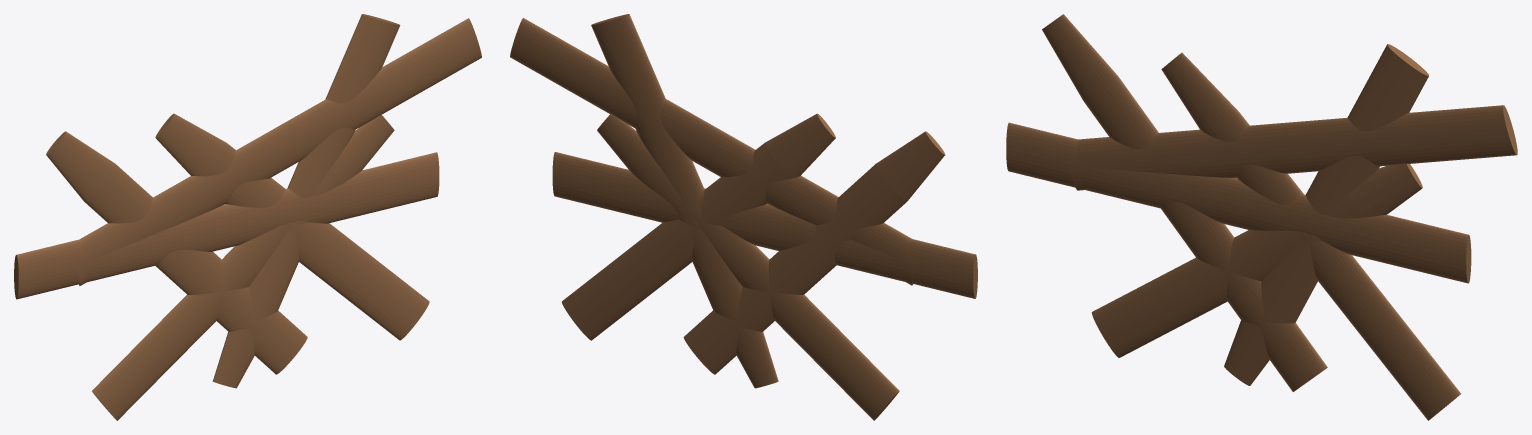
The model's file is broken fence.fbx.
3 renders of one model, left to right at view 1: azimuth 30°, elevation 25°; view 2: azimuth 150°, elevation 25°; view 3: azimuth 330°, elevation 25°, orthographic. The views are drawn at different scales.
Visible parts, largest first — view 1: Cylinder.005, Cylinder.004, Cylinder, Cylinder.003, Cylinder.002, Cylinder.001; view 2: Cylinder.005, Cylinder, Cylinder.004, Cylinder.003, Cylinder.002, Cylinder.001; view 3: Cylinder.005, Cylinder.004, Cylinder, Cylinder.003, Cylinder.002, Cylinder.001.
Boxes of the visible parts, box(x1,y1,x2,y2) form: Cylinder.005: box(75, 18, 481, 285); Cylinder.004: box(14, 152, 439, 299); Cylinder: box(155, 113, 429, 340); Cylinder.003: box(46, 131, 307, 374); Cylinder.002: box(92, 114, 394, 420); Cylinder.001: box(212, 14, 400, 388); Cylinder.005: box(510, 18, 916, 285); Cylinder: box(562, 113, 835, 340); Cylinder.004: box(552, 152, 977, 298); Cylinder.003: box(683, 131, 945, 374); Cylinder.002: box(597, 114, 899, 420); Cylinder.001: box(591, 14, 778, 388); Cylinder.005: box(1068, 105, 1517, 190); Cylinder.004: box(1006, 122, 1471, 283); Cylinder: box(1161, 52, 1460, 420); Cylinder.003: box(1042, 14, 1327, 391); Cylinder.002: box(1091, 163, 1422, 357); Cylinder.001: box(1224, 44, 1428, 385).
Bounding box in the file's own units: 807 × 575 × 15.19.
